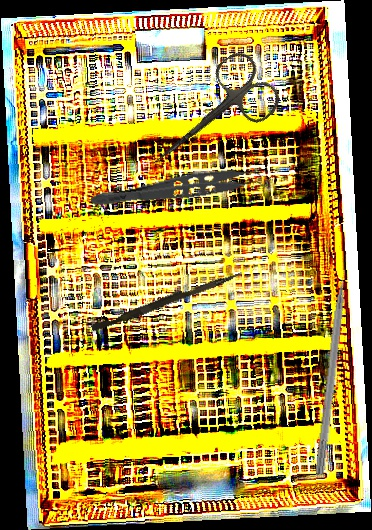Iris Scissors: (133, 46, 287, 188)
Pusher: (90, 265, 244, 336), (314, 252, 354, 476)
Tissue Forceps: (89, 160, 270, 223)
